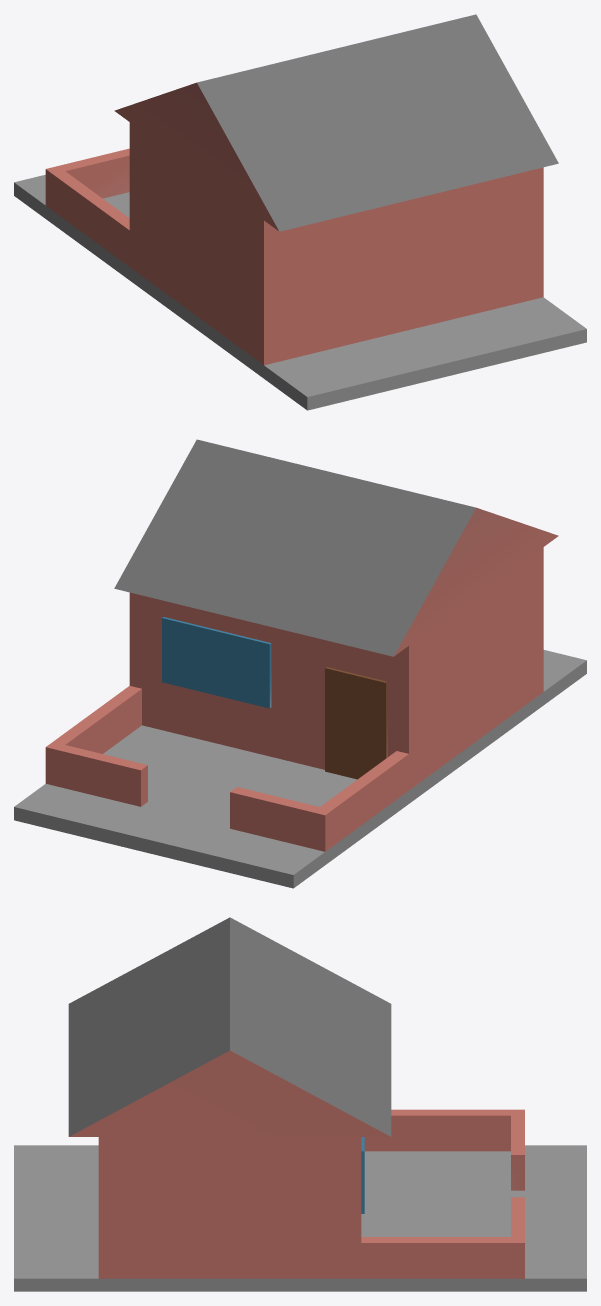
Rendered from House-1.FBX.
3 views of the same model, one above another, from view 1: azimuth 30°, elevation 25°; view 2: azimuth 150°, elevation 25°; view 3: azimuth 270°, elevation 25° (orthographic). The views are drawn at different scales.
Parts seen in each view (by area): view 1: Casa; view 2: Casa; view 3: Casa.
Boxes of the visible parts, x1,y1,x2,y2 form: Casa: (14, 14, 586, 410); Casa: (14, 439, 586, 888); Casa: (14, 917, 586, 1291).
Size of the model in its own units: 600 by 1091 by 507.
